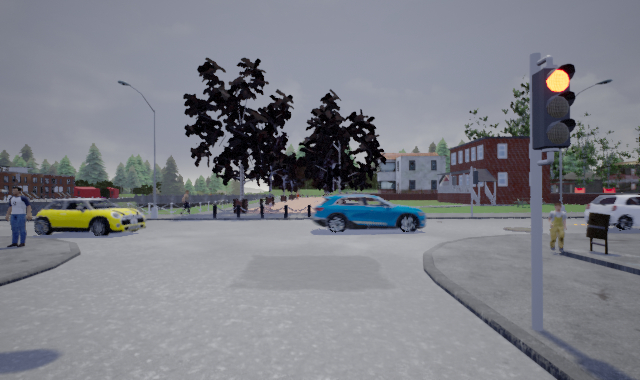pedestrian: (1, 184, 30, 248), (542, 197, 570, 259), (178, 188, 192, 216)
traffic_light: (532, 64, 576, 150)
vehicle: (311, 193, 426, 235), (28, 197, 145, 238), (582, 194, 639, 231)
